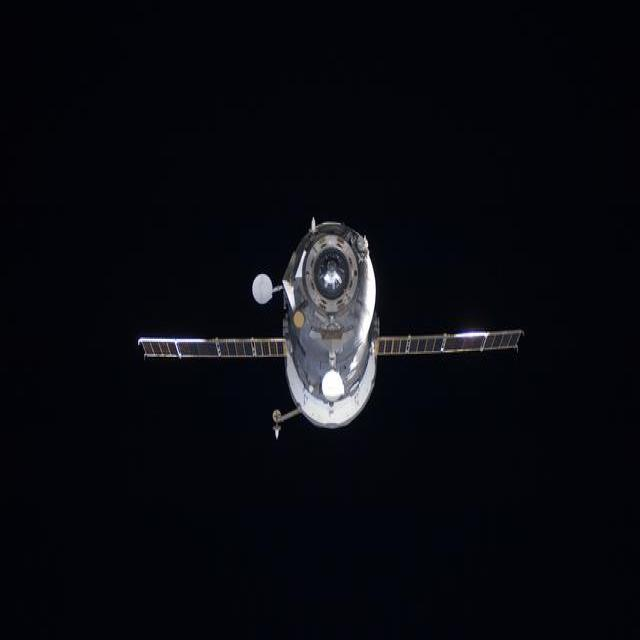satellite: (139, 218, 522, 438)
